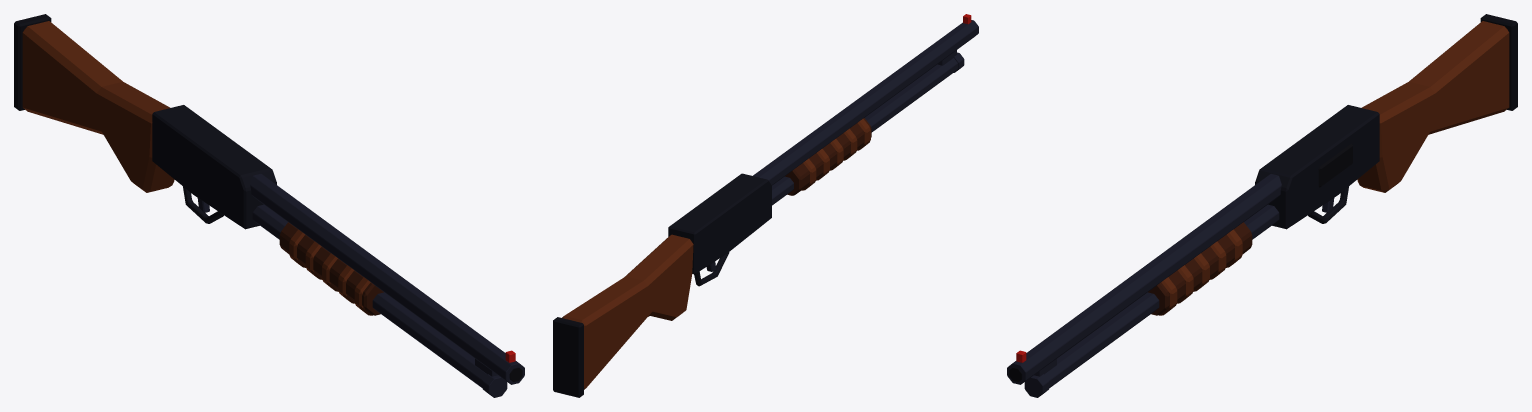
File: myw_pumpshotgun.obj
3 views of the same model, side by side, from view 1: azimuth 30°, elevation 25°; view 2: azimuth 150°, elevation 25°; view 3: azimuth 330°, elevation 25° (orthographic). The views are drawn at different scales.
Visible parts, largest first — view 1: Stock, Barrel, Receiver, Pump; view 2: Stock, Receiver, Barrel, Pump; view 3: Stock, Barrel, Receiver, Pump.
Part boxes in pixels (box(x1,y1,x2,y2)): Stock: box(22, 21, 174, 192); Barrel: box(250, 174, 524, 397); Receiver: box(14, 14, 276, 229); Pump: box(279, 222, 383, 315); Stock: box(562, 234, 693, 389); Receiver: box(553, 173, 771, 397); Barrel: box(753, 14, 978, 205); Pump: box(785, 118, 871, 195); Stock: box(1357, 21, 1509, 192); Barrel: box(1007, 174, 1281, 397); Receiver: box(1255, 14, 1517, 229); Pump: box(1148, 222, 1252, 315).
Size of the model in its own units: 0.22 by 0.595 by 5.07.
